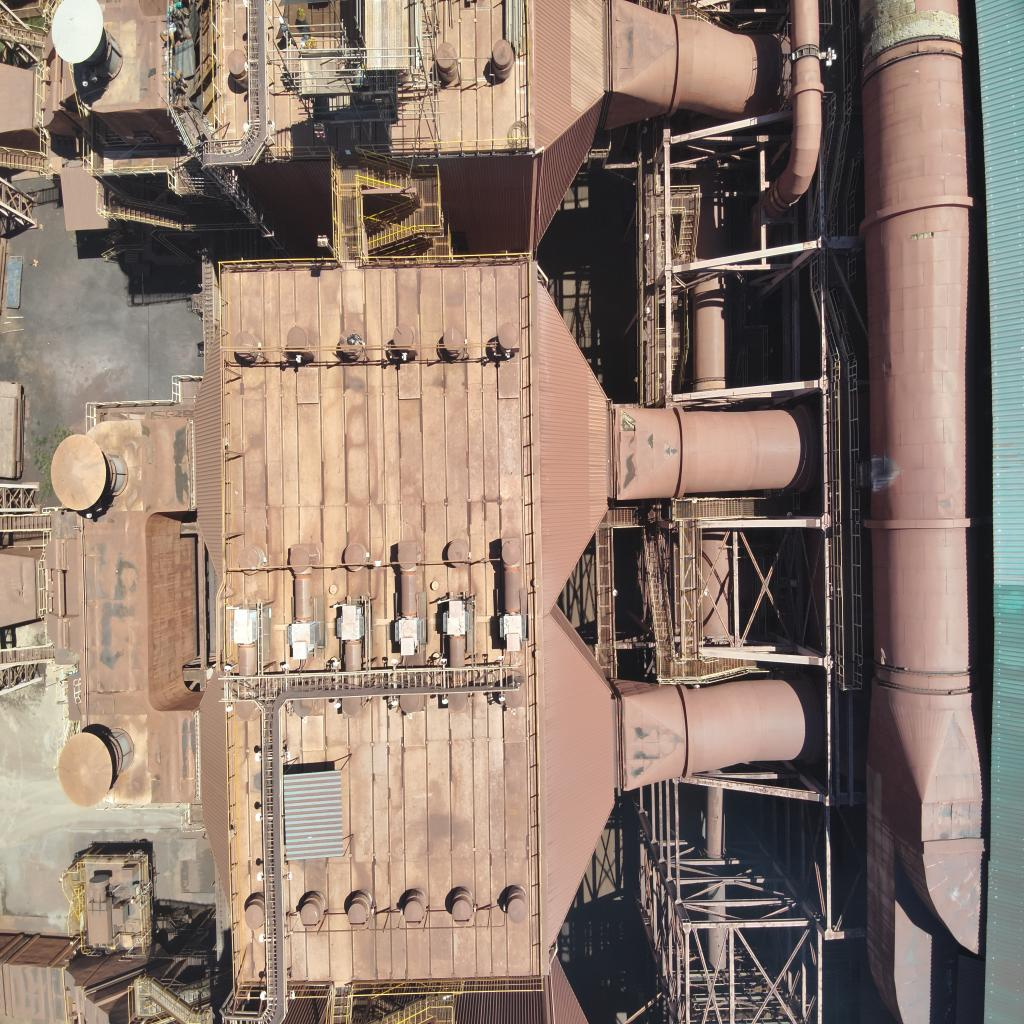Failures: (856, 0, 978, 65), (83, 680, 137, 716), (874, 645, 912, 684), (910, 226, 952, 246), (617, 405, 637, 438)
